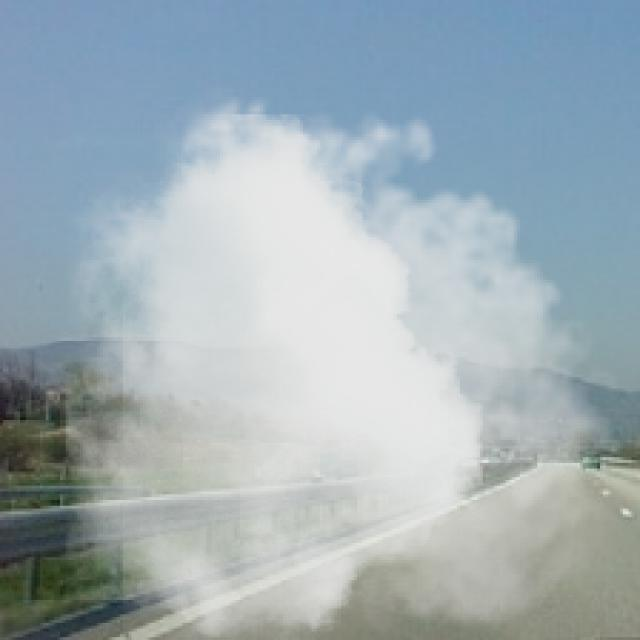smoke: (66, 80, 634, 637)
